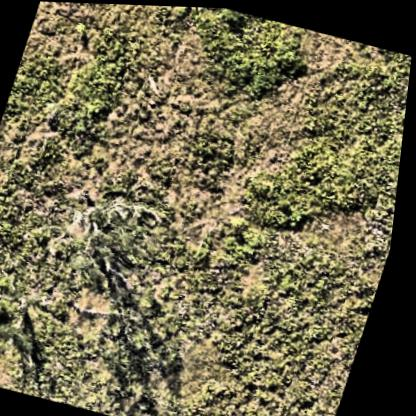tree-top: (42, 170, 180, 299), (0, 258, 78, 354)
